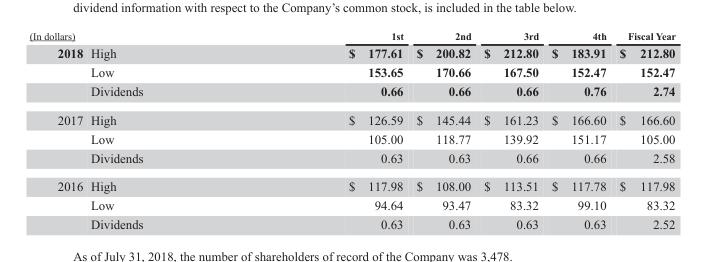table: (28, 29, 675, 231)
table column: (245, 29, 409, 231), (86, 29, 245, 231), (476, 29, 544, 231), (544, 29, 612, 231), (409, 29, 476, 231), (612, 29, 675, 231), (28, 29, 86, 231)
table column header: (28, 29, 675, 105)
table row: (28, 29, 675, 105), (28, 147, 675, 171), (28, 171, 675, 195), (28, 105, 675, 128), (28, 128, 675, 147), (28, 195, 675, 214), (28, 214, 675, 231)
table spanning cell: (28, 105, 86, 171), (28, 171, 86, 231)
